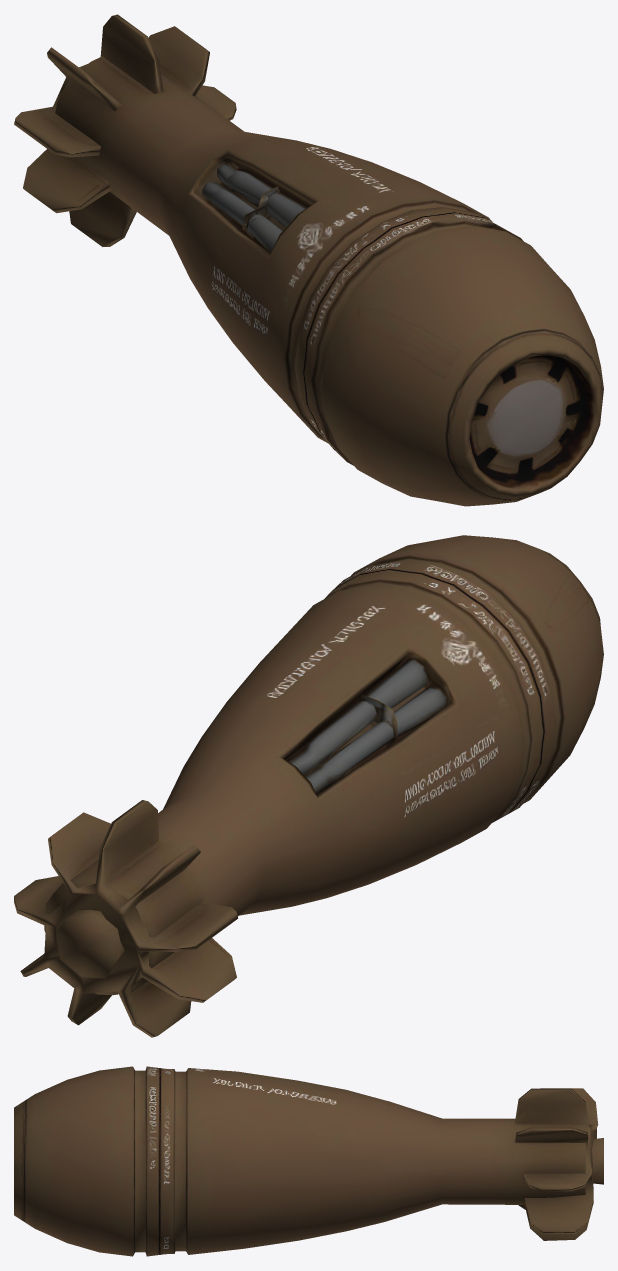
Rendered from Missile.glb.
3 views of the same model, one above another, from view 1: azimuth 30°, elevation 25°; view 2: azimuth 150°, elevation 25°; view 3: azimuth 270°, elevation 25° (orthographic). The views are drawn at different scales.
Parts seen in each view (by area): view 1: tripo_node_4c2ede8a-9b8f-4ea1-9950-3dd2fbf5a405; view 2: tripo_node_4c2ede8a-9b8f-4ea1-9950-3dd2fbf5a405; view 3: tripo_node_4c2ede8a-9b8f-4ea1-9950-3dd2fbf5a405.
Part boxes in pixels (x1,y1,x2,y2): tripo_node_4c2ede8a-9b8f-4ea1-9950-3dd2fbf5a405: (14,14,603,506); tripo_node_4c2ede8a-9b8f-4ea1-9950-3dd2fbf5a405: (14,535,603,1037); tripo_node_4c2ede8a-9b8f-4ea1-9950-3dd2fbf5a405: (14,1066,603,1256).
Size of the model in its own units: 0.3223 by 0.3223 by 0.998.
Materials: 1 (1 with a texture image).
